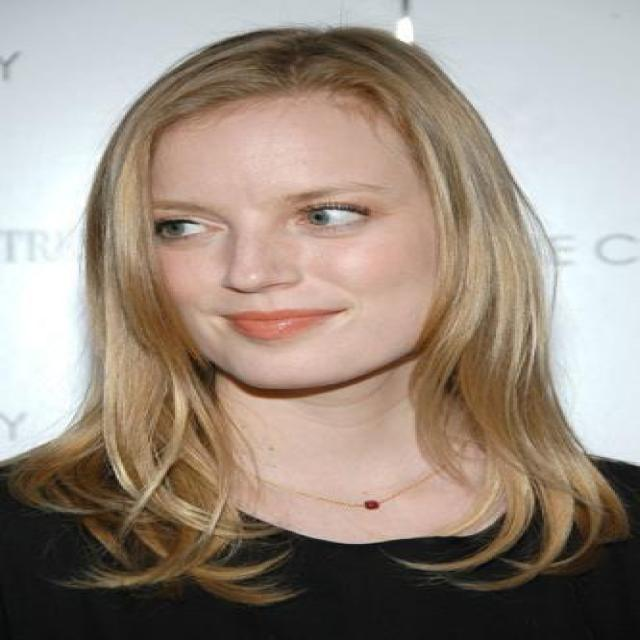0_rostro_limpio: (109, 72, 468, 402)
